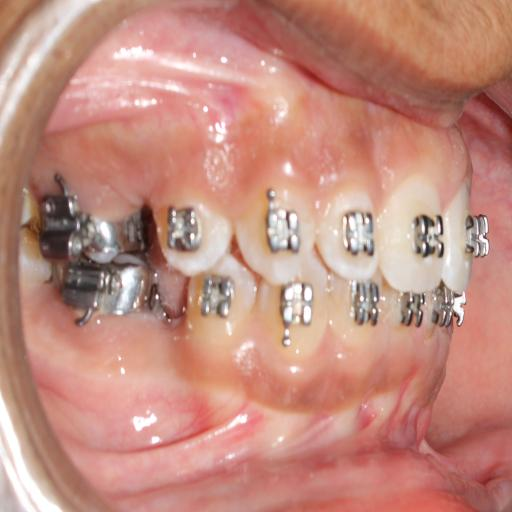correct_brace: (152, 190, 234, 276), (408, 203, 446, 268), (338, 205, 378, 260), (258, 205, 300, 255)
incorrect_brace: (319, 188, 382, 282), (167, 203, 200, 252)
